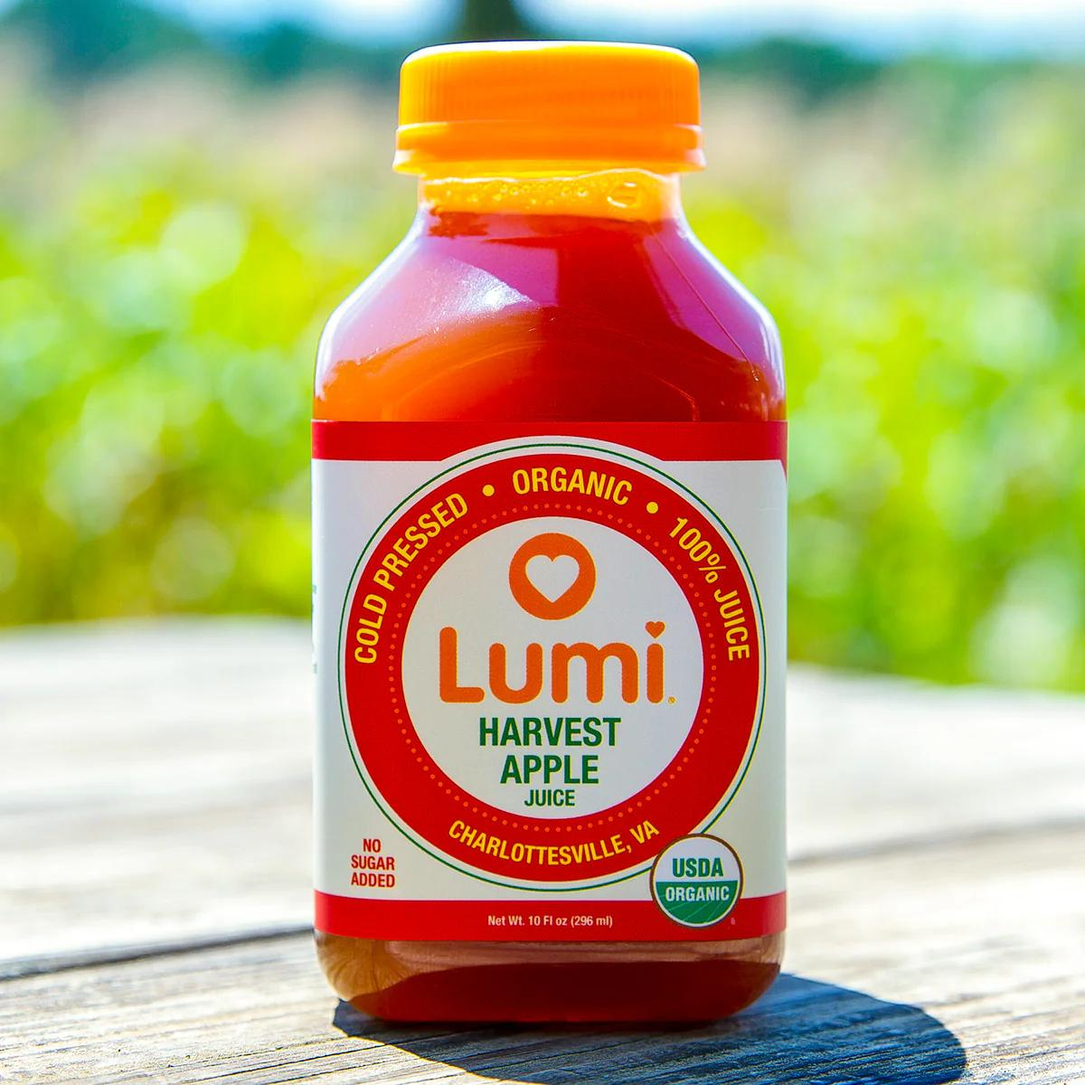juice: (310, 33, 792, 1043)
